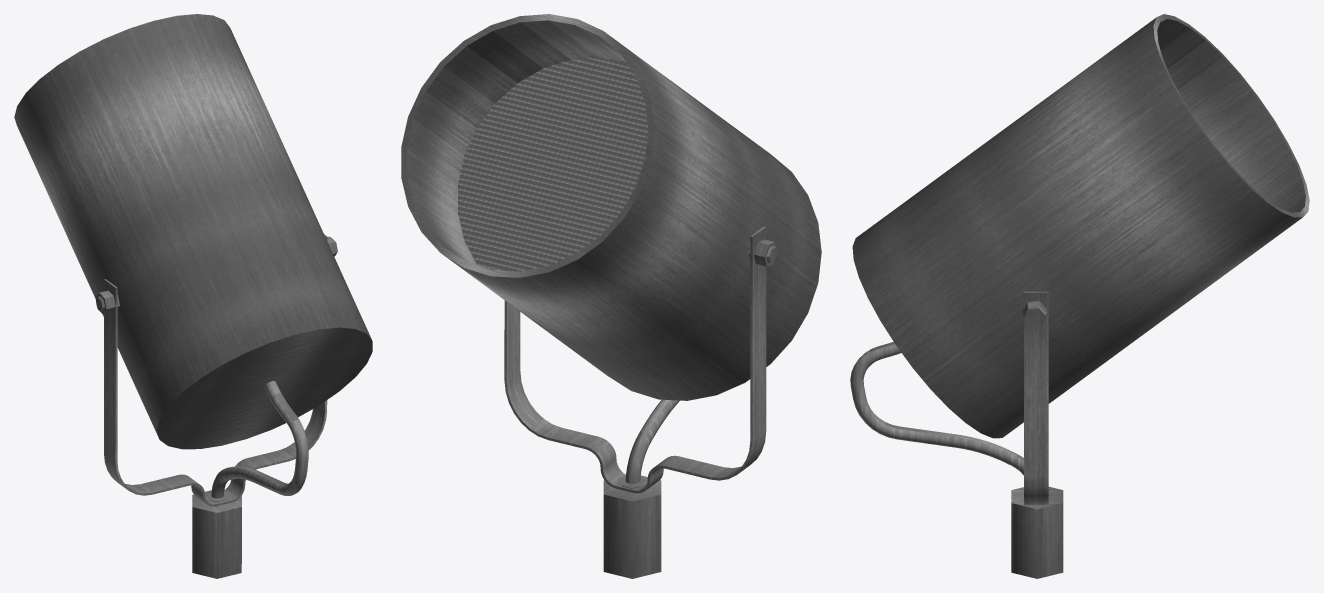
File: spotLight.obj
3 views of the same model, side by side, from view 1: azimuth 30°, elevation 25°; view 2: azimuth 150°, elevation 25°; view 3: azimuth 270°, elevation 25° (orthographic). The views are drawn at different scales.
Parts seen in each view (by area): view 1: Cylinder001, Rectangle001, Cylinder002, Line002, Star001; view 2: Cylinder001, Object001, Rectangle001, Cylinder002, Line002, Star001; view 3: Cylinder001, Rectangle001, Cylinder002, Line002.
Boxes of the visible parts, box(x1,y1,x2,y2) form: Cylinder001: box(14, 14, 372, 449); Rectangle001: box(104, 234, 327, 506); Cylinder002: box(192, 490, 241, 578); Line002: box(211, 381, 308, 498); Star001: box(95, 236, 337, 314); Cylinder001: box(401, 14, 821, 400); Object001: box(458, 57, 648, 271); Rectangle001: box(504, 226, 766, 493); Cylinder002: box(603, 475, 661, 578); Line002: box(625, 399, 679, 483); Star001: box(749, 239, 777, 266); Cylinder001: box(852, 14, 1309, 438); Rectangle001: box(1024, 291, 1048, 505); Cylinder002: box(1011, 486, 1063, 578); Line002: box(850, 342, 1023, 475).
Size of the model in its own units: 59 by 122 by 94.88.
